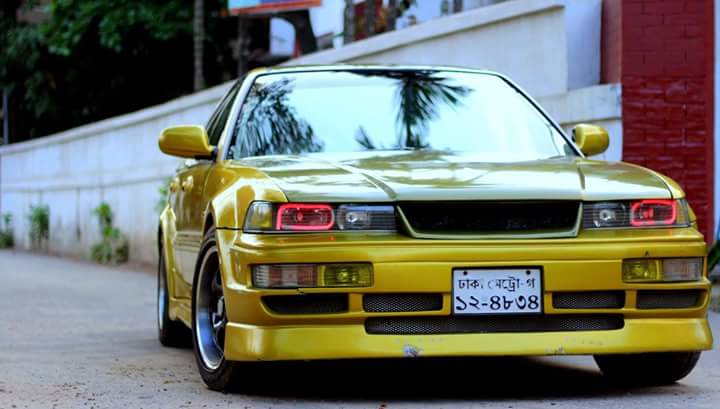registration_plate: (452, 269, 541, 314)
